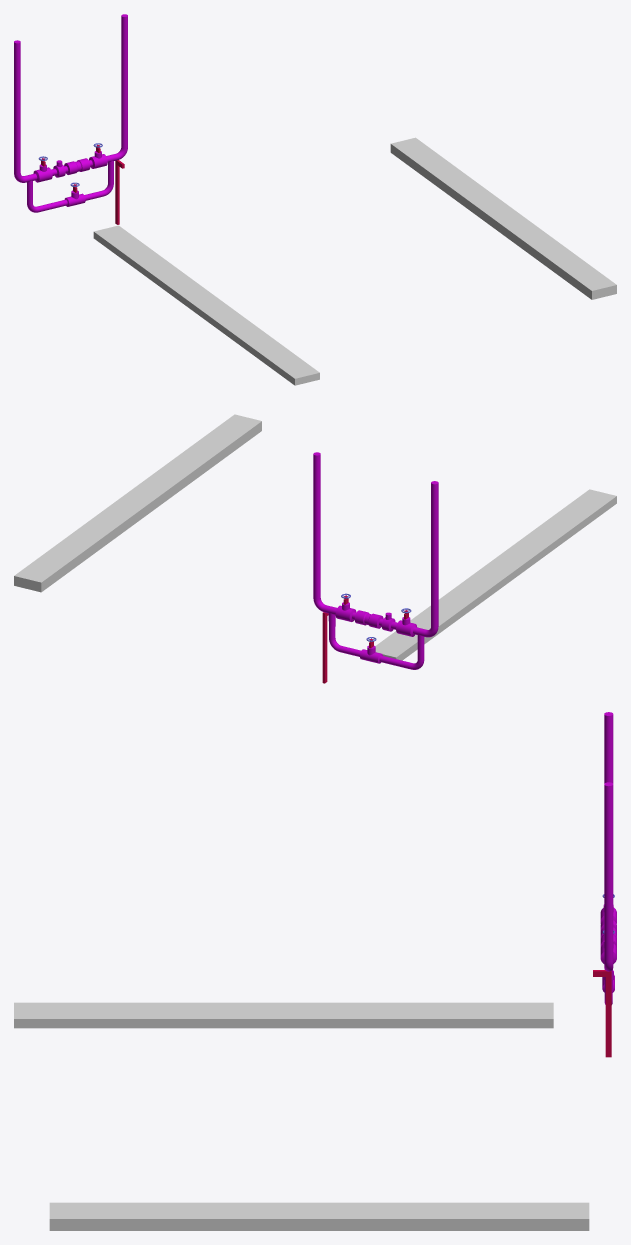
Rendered from B3F_M_ECT.fbx.
3 views of the same model, one above another, from view 1: azimuth 30°, elevation 25°; view 2: azimuth 150°, elevation 25°; view 3: azimuth 270°, elevation 25° (orthographic). The views are drawn at different scales.
Parts seen in each view (by area): view 1: Chiller Water Pump_under, Chiller Cooling Pump_under, Chiller Cooling Pump_Pipe#1; view 2: Chiller Water Pump_under, Chiller Cooling Pump_under, Chiller Cooling Pump_Pipe#1; view 3: Chiller Water Pump_under, Chiller Cooling Pump_under, Chiller Cooling Pump_Pipe#1.
Boxes of the visible parts, box(x1,y1,x2,y2) form: Chiller Water Pump_under: box(390, 137, 616, 299); Chiller Cooling Pump_under: box(93, 225, 319, 385); Chiller Cooling Pump_Pipe#1: box(14, 14, 127, 224); Chiller Water Pump_under: box(14, 414, 261, 592); Chiller Cooling Pump_under: box(375, 489, 616, 660); Chiller Cooling Pump_Pipe#1: box(313, 452, 438, 683); Chiller Water Pump_under: box(49, 1202, 589, 1230); Chiller Cooling Pump_under: box(14, 1002, 553, 1028); Chiller Cooling Pump_Pipe#1: box(593, 712, 616, 1057).
Size of the model in its own units: 8543 by 4281 by 8448.
